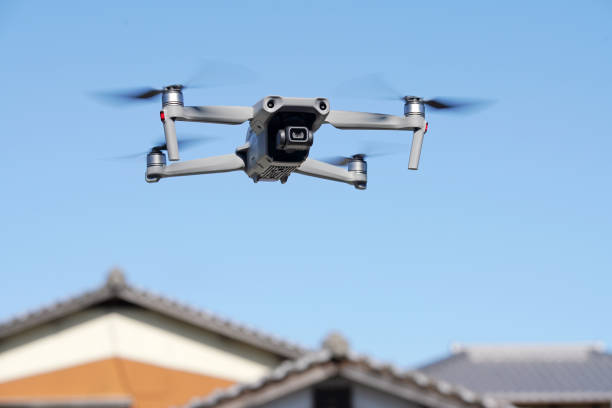Drone: (75, 71, 502, 199)
